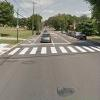Crosswalk: (6, 41, 99, 71)
